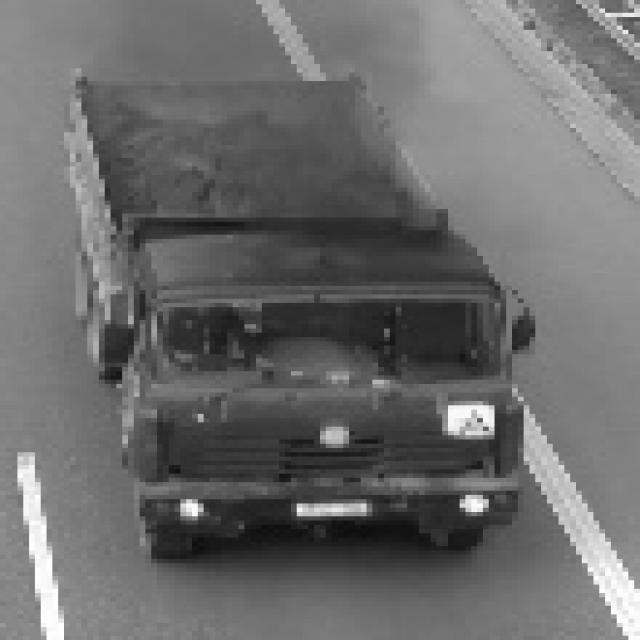truck: (101, 209, 549, 569)
